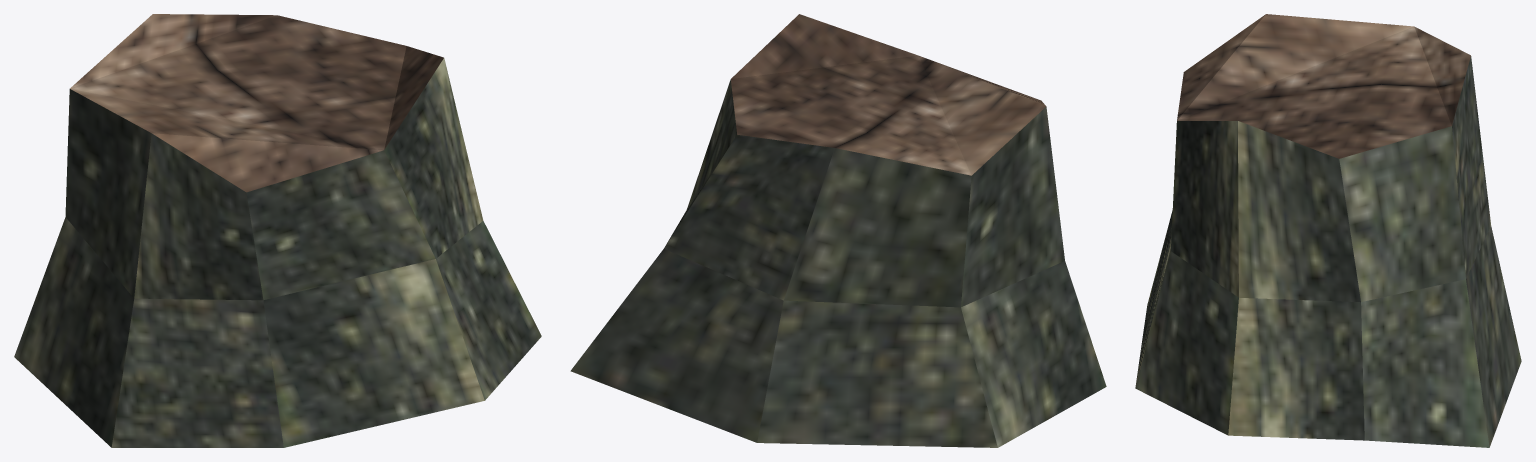
File: Willow_Dead_002.fbx
3 views of the same model, side by side, from view 1: azimuth 30°, elevation 25°; view 2: azimuth 150°, elevation 25°; view 3: azimuth 270°, elevation 25° (orthographic). The views are drawn at different scales.
Visible parts, largest first — view 1: Tree_Saule_Dead2; view 2: Tree_Saule_Dead2; view 3: Tree_Saule_Dead2.
Boxes of the visible parts, x1,y1,x2,y2 form: Tree_Saule_Dead2: (14, 14, 541, 447); Tree_Saule_Dead2: (570, 14, 1106, 447); Tree_Saule_Dead2: (1135, 14, 1521, 447).
Size of the model in its own units: 883 by 610 by 738.
